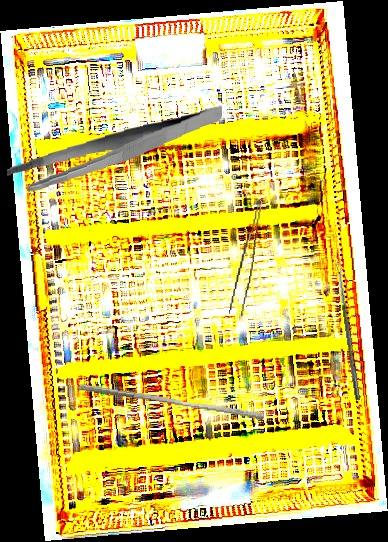Dressing Forceps: (4, 104, 226, 194)
Pusher: (75, 383, 267, 421)
Surgical Spoon: (335, 261, 362, 401)
Tissue Forceps: (228, 198, 263, 317)
